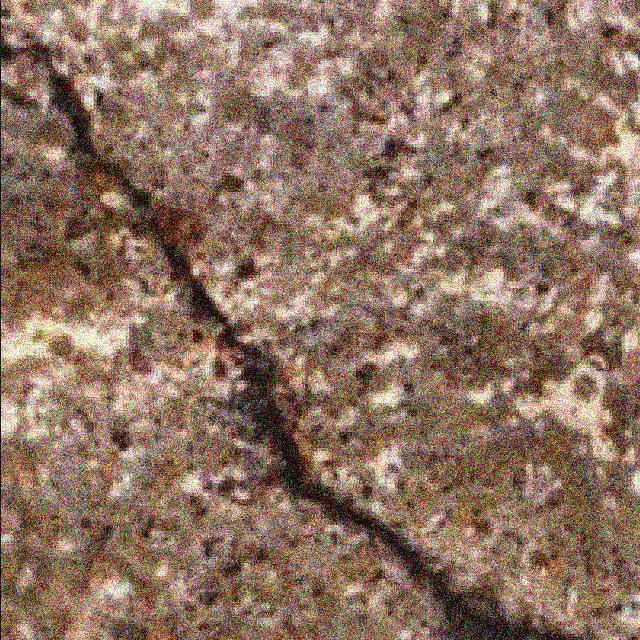SurfaceCrack: (0, 2, 548, 640)
